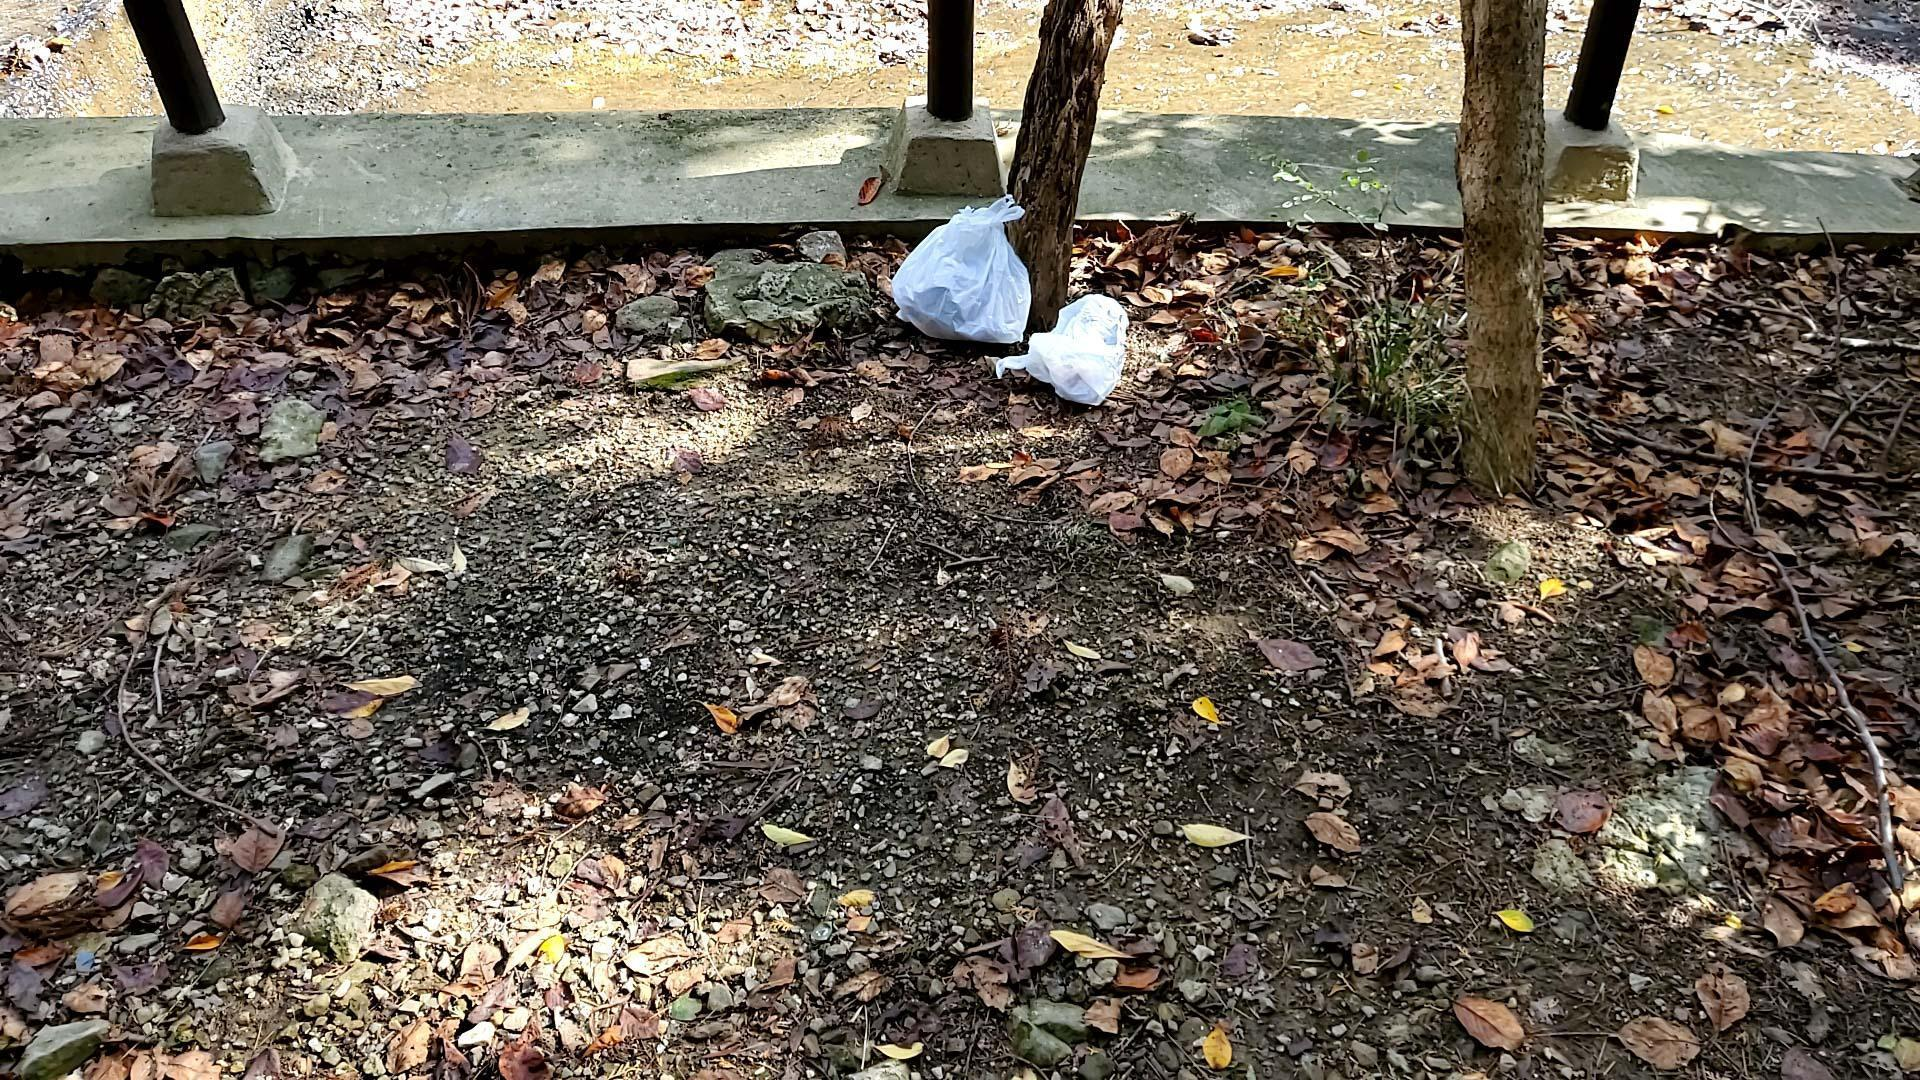white_bag: (885, 189, 1035, 348), (990, 291, 1131, 415)
